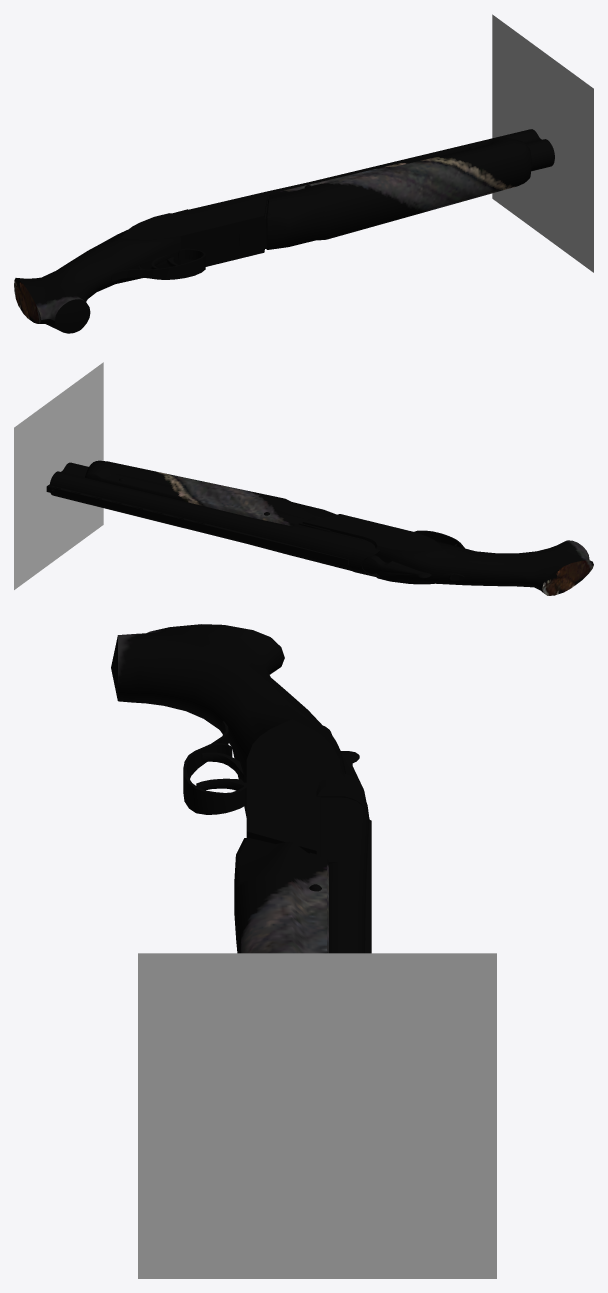
The model's file is obrez.obj.
3 renders of one model, top to bottom at view 1: azimuth 30°, elevation 25°; view 2: azimuth 150°, elevation 25°; view 3: azimuth 270°, elevation 25°, orthographic. The views are drawn at different scales.
Parts seen in each view (by area): view 1: gunModel, flashModel; view 2: gunModel, flashModel; view 3: flashModel, gunModel.
Part boxes in pixels (x1,y1,x2,y2): gunModel: (14,129,554,333); flashModel: (492,14,593,272); gunModel: (46,460,593,595); flashModel: (14,362,103,589); flashModel: (138,953,496,1278); gunModel: (111,624,371,953).
Size of the model in its own units: 22.73 by 7.22 by 7.77.
